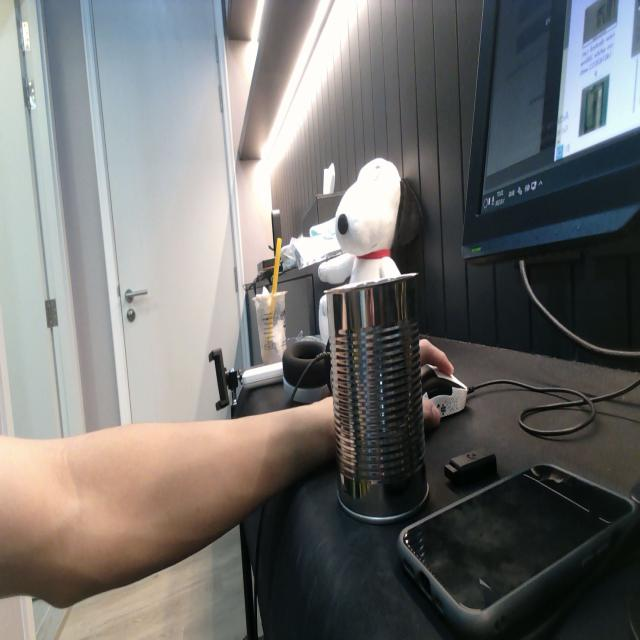metal: (322, 262, 431, 522)
